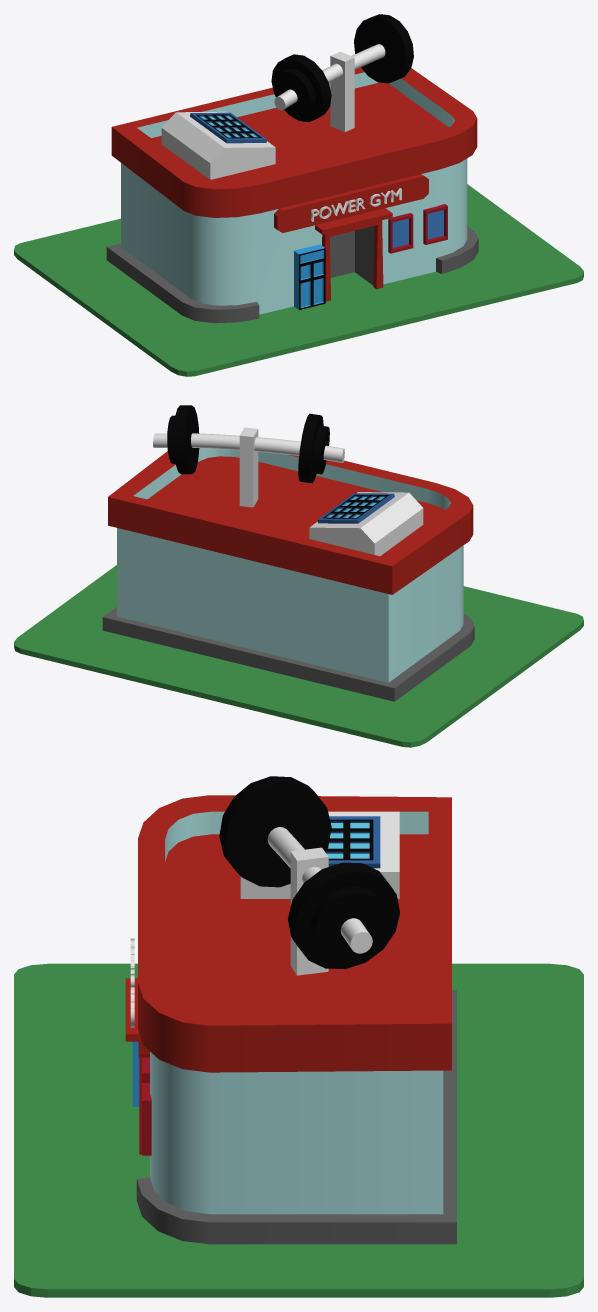
Rendered from gym.fbx.
The picture shows the model from 3 angles, top to bottom: view 1: azimuth 30°, elevation 25°; view 2: azimuth 150°, elevation 25°; view 3: azimuth 270°, elevation 25°; orthographic projection. The views are drawn at different scales.
Parts seen in each view (by area): view 1: Cube.073, Plane.009, Cylinder.018, Cube.080, Cube.082, Cube.076, Cube.079, Cube.081, Cube.074, Cube.077, Cube.078, Cube.075 (+1 smaller); view 2: Cube.073, Plane.009, Cylinder.018, Cube.080, Cube.079, Cube.081; view 3: Cube.073, Plane.009, Cylinder.018, Cube.080, Cube.081, Cube.079, Cube.078, Cube.075.
Part boxes in pixels (x1=…): Cube.073: x1=106, y1=67, x2=478, y2=323; Plane.009: x1=14, y1=184, x2=583, y2=376; Cylinder.018: x1=271, y1=14, x2=413, y2=122; Cube.080: x1=161, y1=111, x2=275, y2=179; Cube.082: x1=274, y1=174, x2=428, y2=232; Cube.076: x1=294, y1=244, x2=325, y2=309; Cube.079: x1=330, y1=51, x2=354, y2=131; Cube.081: x1=190, y1=112, x2=267, y2=143; Cube.074: x1=322, y1=220, x2=383, y2=301; Cube.077: x1=388, y1=213, x2=413, y2=253; Cube.078: x1=423, y1=204, x2=447, y2=244; Cube.075: x1=315, y1=208, x2=392, y2=234; Cube.073: x1=102, y1=448, x2=474, y2=701; Plane.009: x1=14, y1=565, x2=583, y2=747; Cylinder.018: x1=153, y1=405, x2=344, y2=483; Cube.080: x1=309, y1=492, x2=423, y2=555; Cube.079: x1=239, y1=427, x2=258, y2=507; Cube.081: x1=317, y1=493, x2=394, y2=523; Cube.073: x1=136, y1=795, x2=456, y2=1244; Plane.009: x1=14, y1=963, x2=583, y2=1297; Cylinder.018: x1=219, y1=776, x2=399, y2=969; Cube.080: x1=240, y1=811, x2=399, y2=898; Cube.081: x1=325, y1=816, x2=380, y2=868; Cube.079: x1=290, y1=847, x2=328, y2=975; Cube.078: x1=142, y1=1083, x2=151, y2=1155; Cube.075: x1=125, y1=978, x2=138, y2=1041.
Size of the model in its own units: 42.59 by 21.4 by 31.51.
